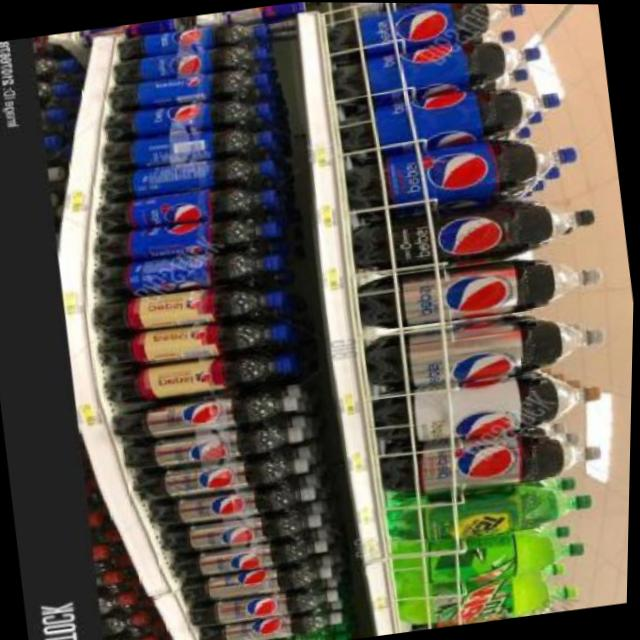Drinks: (348, 188, 599, 281), (354, 246, 607, 335), (363, 306, 610, 397), (341, 126, 581, 217), (372, 364, 606, 449), (380, 422, 606, 504), (336, 78, 564, 159), (328, 30, 545, 109), (391, 517, 589, 593), (96, 311, 294, 375), (91, 276, 287, 339), (92, 241, 286, 304), (397, 568, 584, 633), (322, 2, 527, 60), (102, 346, 296, 407), (92, 208, 281, 267), (112, 386, 301, 443), (93, 178, 279, 235), (124, 418, 306, 474), (133, 448, 313, 504), (99, 150, 277, 204), (99, 121, 276, 175), (103, 92, 274, 145), (150, 478, 321, 530), (161, 504, 326, 555), (106, 64, 270, 115), (171, 532, 332, 580), (111, 39, 271, 86), (181, 557, 336, 605), (114, 17, 267, 62), (190, 583, 342, 628), (199, 605, 347, 640)
